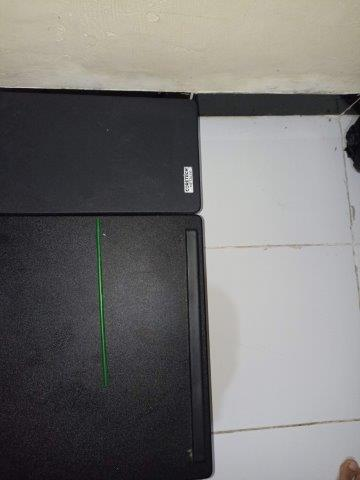sedotan: (95, 219, 108, 386)
